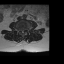CCS_normal: (22, 28, 23, 35)
LFS_severe_stenosis: (25, 27, 26, 32)
LLS_stenosis: (23, 28, 25, 32)
RFS_severe_stenosis: (19, 28, 20, 32)
RLS_severe_stenosis: (20, 28, 22, 32)
